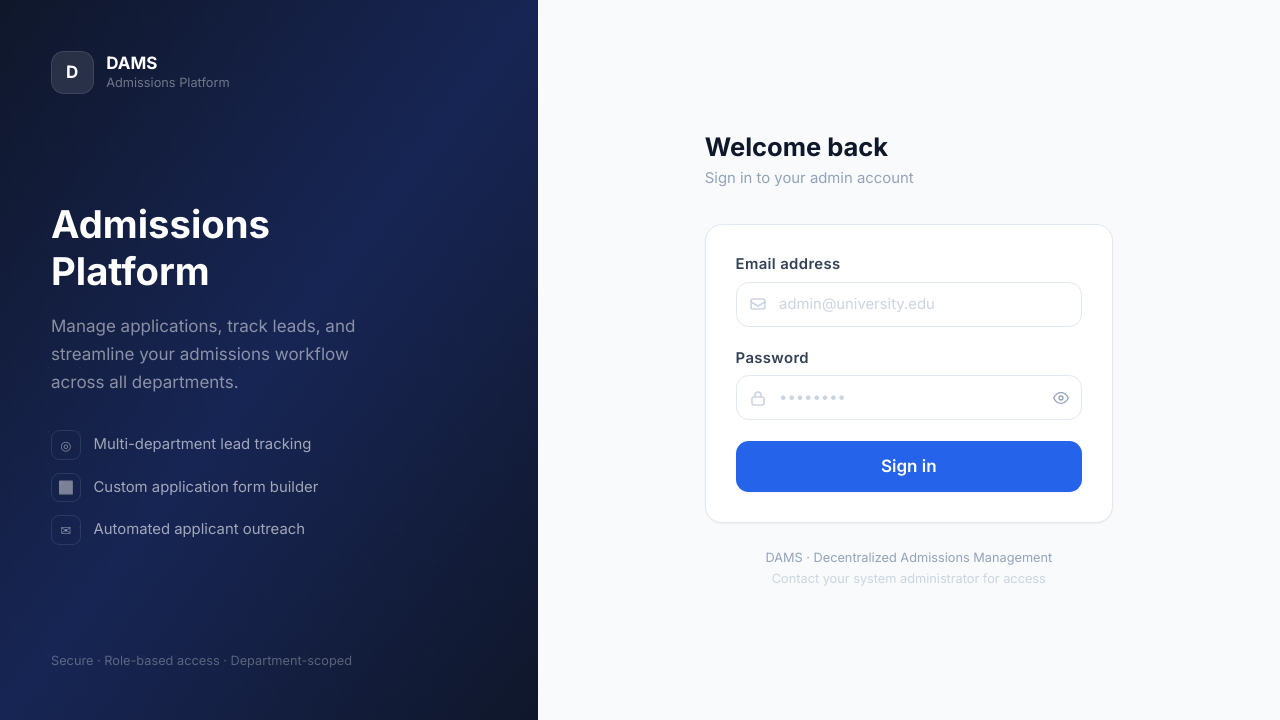
Scenario: Sign-in page — form submission › disables submit button while loading
Step 1. Type "admin@dams.edu" into the field with test id "email-input" → (909, 304), box [736,282,1082,326]
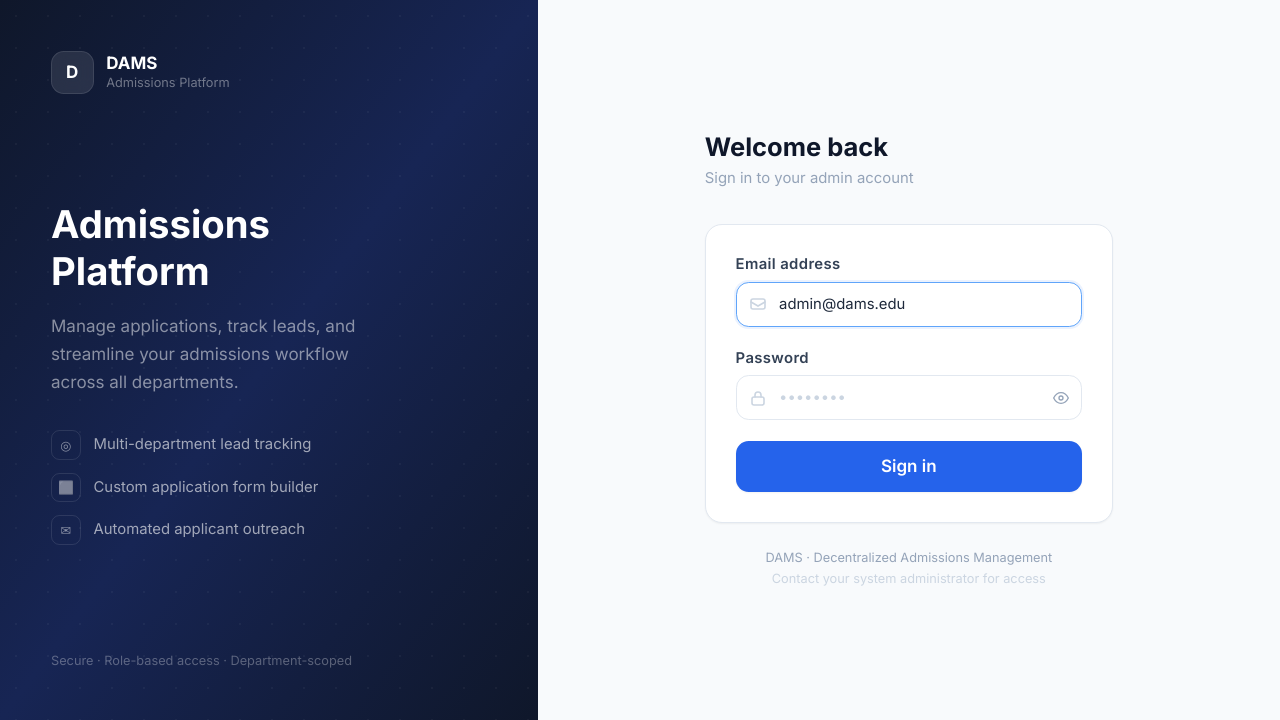
Step 2. Type "Admin@2026" into the password field with test id "password-input" → (909, 398), box [736,375,1082,420]
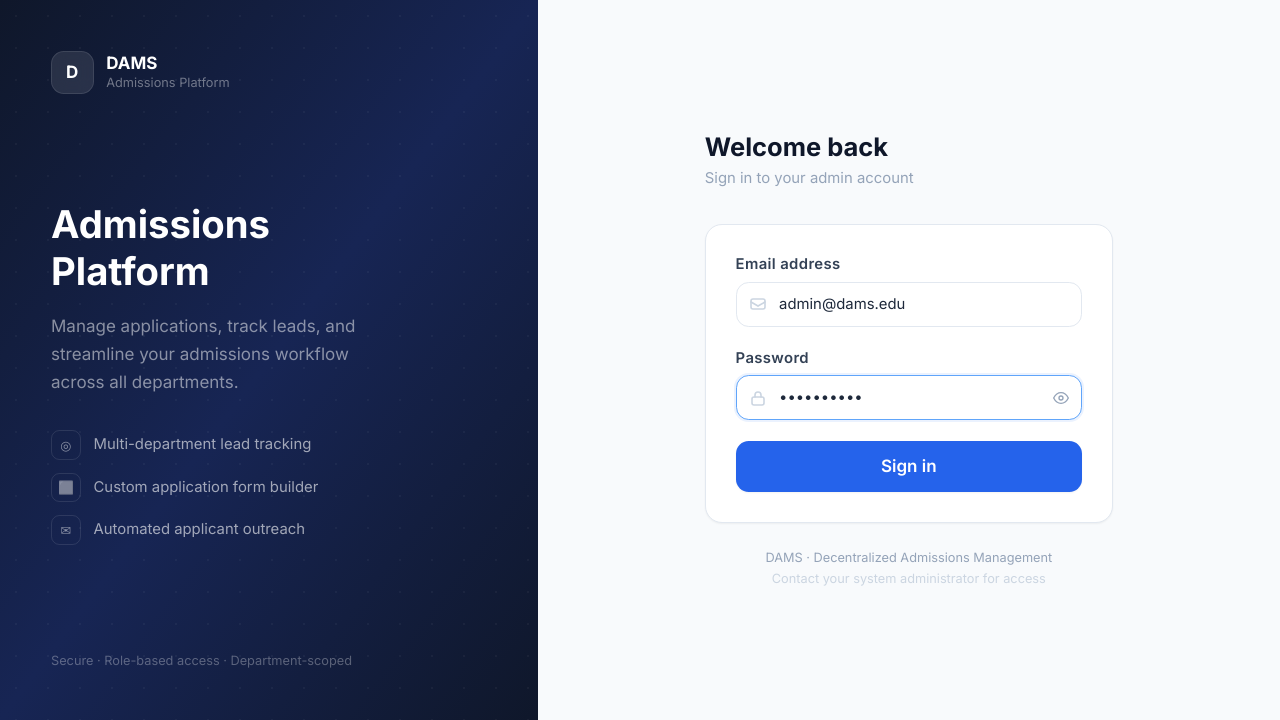
Step 3. Click the button with test id "submit-btn" → (909, 467), box [736,441,1082,492]
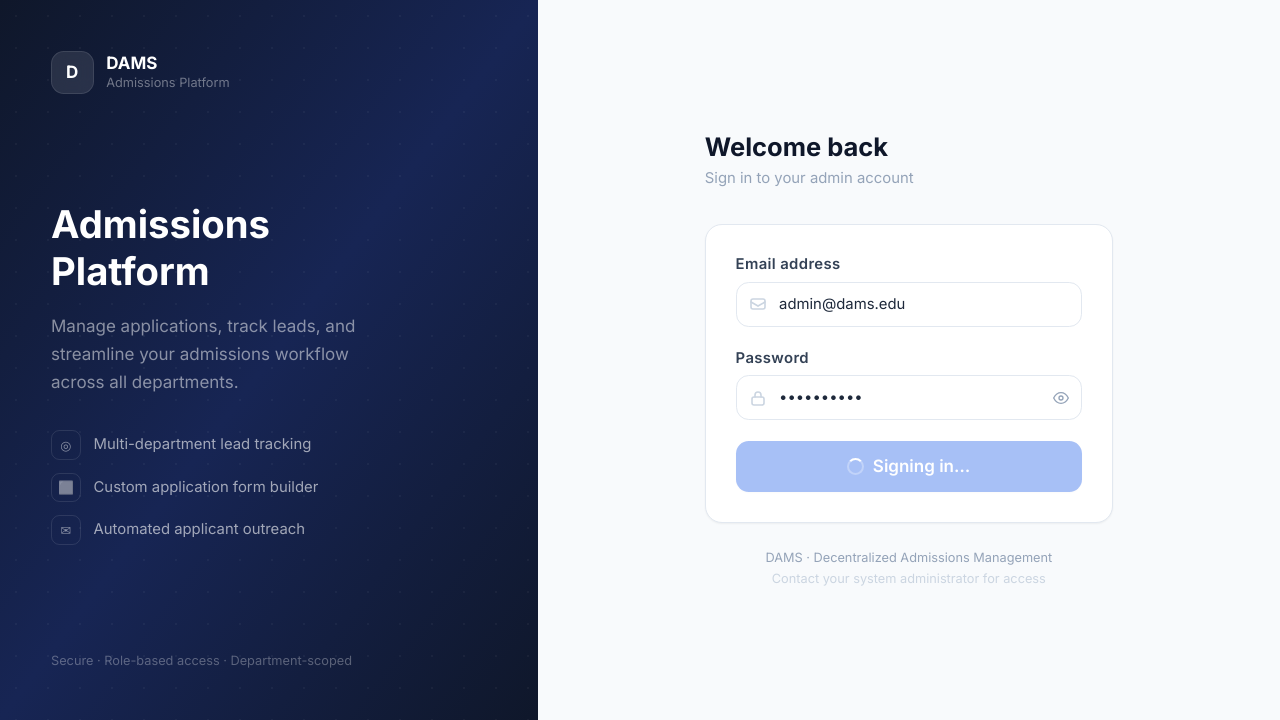
Result: the button with test id "submit-btn" is disabled at [736,441,1082,492]
